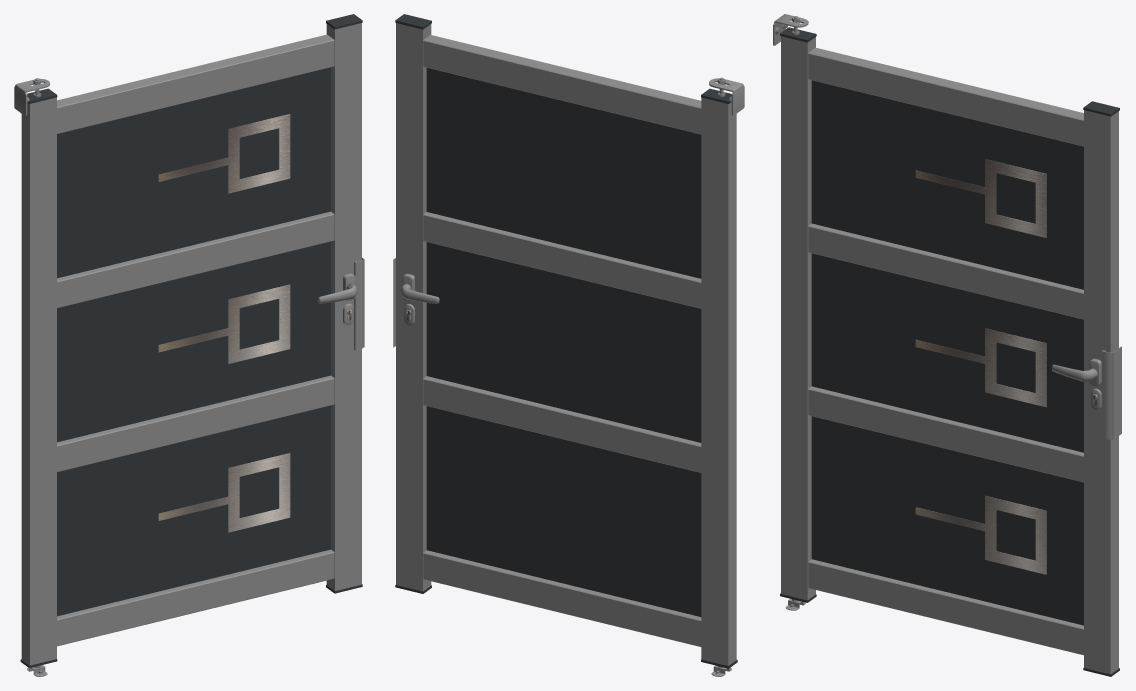
3 renders of one model, left to right at view 1: azimuth 30°, elevation 25°; view 2: azimuth 150°, elevation 25°; view 3: azimuth 330°, elevation 25°, orthographic.
Parts seen in each view (by area): view 1: Box2400, Shape107412643, Shape107412638, Shape107412682, paxos, Shape107412683, Shape107412684, Shape107412681, Shape107412637, Rectangle057; view 2: Box2400, Shape107412643, Shape107412638, Shape107412682, Shape107412684, Shape107412681, Shape107412683, Rectangle057; view 3: Box2400, Shape107412638, Shape107412643, Shape107412682, paxos, Shape107412683, Shape107412684, Shape107412681, Shape107412637.
Part boxes in pixels (x1,y1,x2,y2): Box2400: (57, 67, 330, 616); Shape107412643: (21, 97, 56, 665); Shape107412638: (326, 23, 361, 590); Shape107412682: (57, 34, 334, 133); paxos: (158, 114, 290, 532); Shape107412683: (57, 549, 334, 646); Shape107412684: (57, 375, 334, 472); Shape107412681: (57, 211, 334, 308); Shape107412637: (354, 257, 364, 350); Rectangle057: (14, 78, 49, 116); Box2400: (426, 68, 701, 616); Shape107412643: (701, 97, 736, 665); Shape107412638: (396, 23, 431, 591); Shape107412682: (423, 35, 701, 134); Shape107412684: (423, 376, 701, 472); Shape107412681: (423, 212, 701, 308); Shape107412683: (423, 550, 701, 646); Rectangle057: (709, 78, 744, 115); Box2400: (811, 80, 1083, 625); Shape107412638: (1084, 110, 1118, 674); Shape107412643: (781, 36, 815, 600); Shape107412682: (808, 47, 1083, 146); paxos: (915, 159, 1046, 574); Shape107412683: (808, 559, 1083, 655); Shape107412684: (808, 386, 1083, 482); Shape107412681: (808, 223, 1083, 319); Shape107412637: (1101, 346, 1121, 439).
Size of the model in its own units: 1015 by 1688 by 152.
7 materials, 4 textured.
